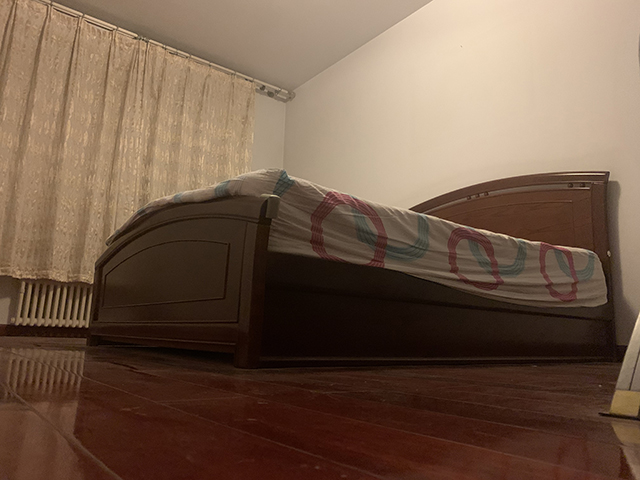bed: (85, 167, 618, 370)
curtain: (1, 1, 94, 282)
